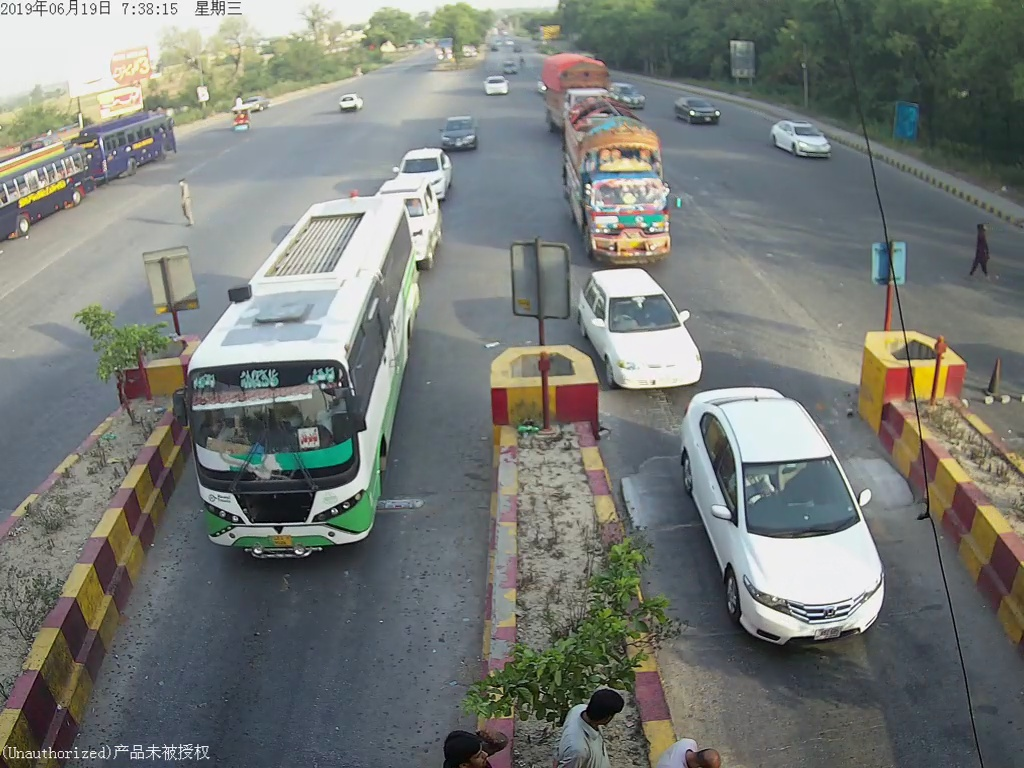Cat-1: (678, 384, 887, 643), (581, 263, 704, 395), (767, 116, 836, 158), (433, 111, 481, 152), (672, 97, 726, 127)
Cat-3: (181, 194, 416, 554)
Cat-4: (569, 110, 681, 269), (543, 47, 607, 136)
